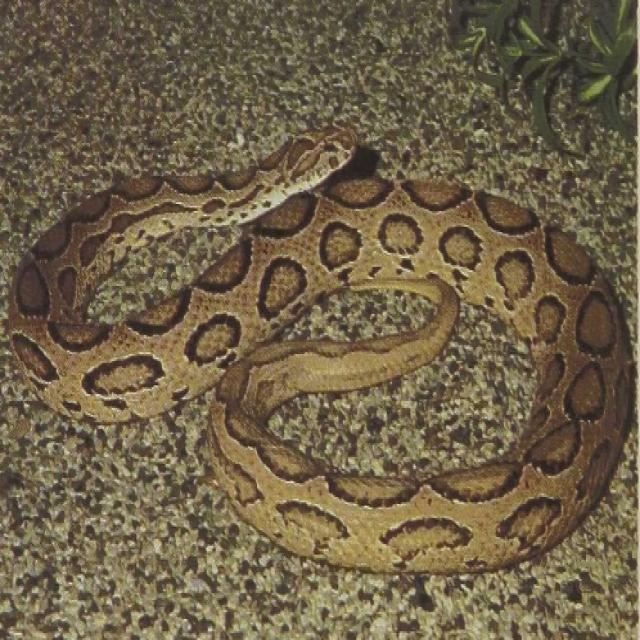Snake: (6, 122, 634, 574)
